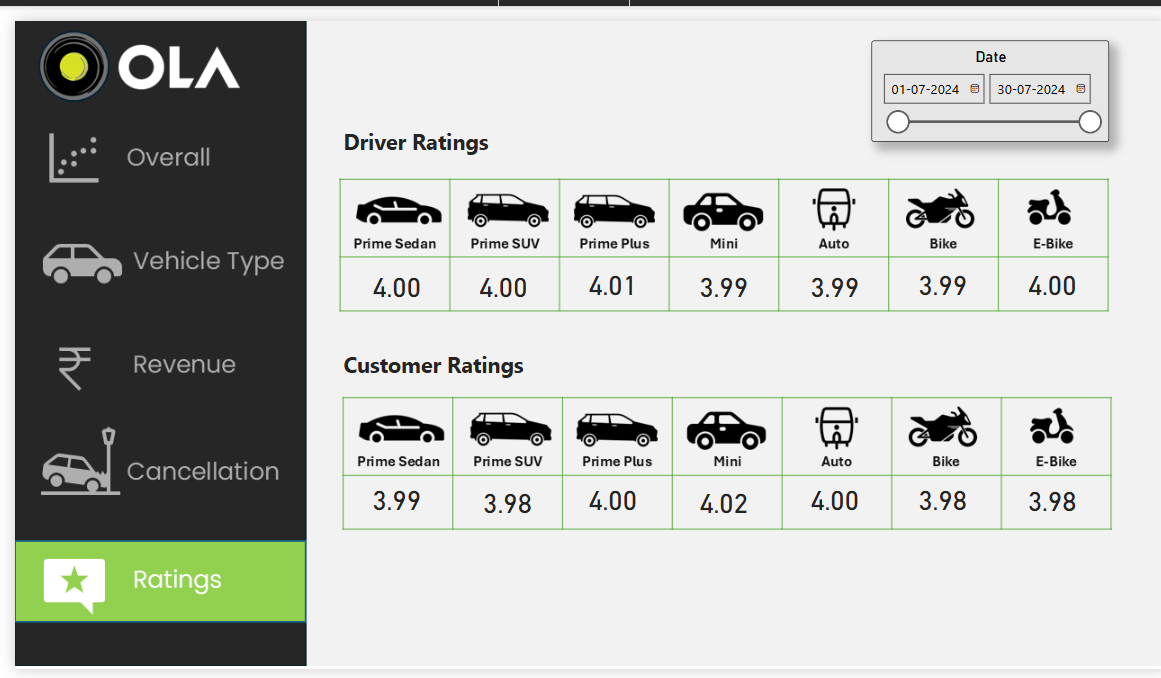

What the dashboard file says about the page in this screenshot:
{"tool":"powerbi","page":{"name":"Ratings","canvas":[1280,720],"ordinal":4},"visuals":[{"type":"actionButton","box":[0,219.6,322.1,92.7],"z":0},{"type":"actionButton","box":[0,226.1,322.1,92.7],"z":1000},{"type":"actionButton","box":[10,236.1,322.1,92.7],"z":2000},{"type":"actionButton","box":[9.8,385.5,322.1,100.8],"z":3000},{"type":"actionButton","box":[0,453.8,322.1,104.1],"z":4000},{"type":"actionButton","box":[9.8,110.6,312.3,92.7],"z":5000},{"type":"card","fields":{"Values":["Avg(July.Driver_Ratings)"]},"box":[381.1,268.1,84.3,49.8],"z":6000},{"type":"card","fields":{"Values":["Avg(July.Driver_Ratings)"]},"box":[499.9,268.1,84.3,49.8],"z":7000},{"type":"card","fields":{"Values":["Avg(July.Driver_Ratings)"]},"box":[622.4,266.2,84.3,49.8],"z":8000},{"type":"card","fields":{"Values":["Avg(July.Driver_Ratings)"]},"box":[745,268.1,84.3,49.8],"z":9000},{"type":"card","fields":{"Values":["Avg(July.Driver_Ratings)"]},"box":[867.6,268.1,84.3,49.8],"z":10000},{"type":"card","fields":{"Values":["Avg(July.Driver_Ratings)"]},"box":[988.3,266.2,84.3,49.8],"z":11000},{"type":"card","fields":{"Values":["Avg(July.Driver_Ratings)"]},"box":[1110.8,266.2,84.3,49.8],"z":12000},{"type":"textbox","box":[360.1,111.1,181.9,46],"z":13000},{"type":"textbox","box":[360.1,360.1,237.5,49.8],"z":14000},{"type":"card","fields":{"Values":["Avg(July.Customer_Rating)"]},"box":[381.1,505.6,84.3,49.8],"z":15000},{"type":"card","fields":{"Values":["Avg(July.Customer_Rating)"]},"box":[499.9,507.5,93.8,49.8],"z":16000},{"type":"card","fields":{"Values":["Avg(July.Customer_Rating)"]},"box":[622.4,505.6,84.3,49.8],"z":17000},{"type":"card","fields":{"Values":["Avg(July.Customer_Rating)"]},"box":[745,511.4,84.3,44.1],"z":17001},{"type":"card","fields":{"Values":["Avg(July.Customer_Rating)"]},"box":[867.6,505.6,84.3,49.8],"z":17002},{"type":"card","fields":{"Values":["Avg(July.Customer_Rating)"]},"box":[988.3,505.6,84.3,49.8],"z":17003},{"type":"card","fields":{"Values":["Avg(July.Customer_Rating)"]},"box":[1110.8,507.5,84.3,46],"z":17004},{"type":"slicer","title":"Date","fields":{"Values":["July.Date"]},"box":[951.9,21.1,264.3,113],"z":17005}]}

Visuals, with their boxes on the page's 1280x720 design canvas (x1, y1, x2, y2). These are canvas units, not pixel positions in the 1161x678 screenshot, which may show the page scaled, cropped or inside an application window:
actionButton: (0,220,322,312)
actionButton: (0,226,322,319)
actionButton: (10,236,332,329)
actionButton: (10,386,332,486)
actionButton: (0,454,322,558)
actionButton: (10,111,322,203)
card - Avg(July.Driver_Ratings): (381,268,465,318)
card - Avg(July.Driver_Ratings): (500,268,584,318)
card - Avg(July.Driver_Ratings): (622,266,707,316)
card - Avg(July.Driver_Ratings): (745,268,829,318)
card - Avg(July.Driver_Ratings): (868,268,952,318)
card - Avg(July.Driver_Ratings): (988,266,1073,316)
card - Avg(July.Driver_Ratings): (1111,266,1195,316)
textbox: (360,111,542,157)
textbox: (360,360,598,410)
card - Avg(July.Customer_Rating): (381,506,465,555)
card - Avg(July.Customer_Rating): (500,508,594,557)
card - Avg(July.Customer_Rating): (622,506,707,555)
card - Avg(July.Customer_Rating): (745,511,829,556)
card - Avg(July.Customer_Rating): (868,506,952,555)
card - Avg(July.Customer_Rating): (988,506,1073,555)
card - Avg(July.Customer_Rating): (1111,508,1195,554)
"Date" slicer: (952,21,1216,134)
